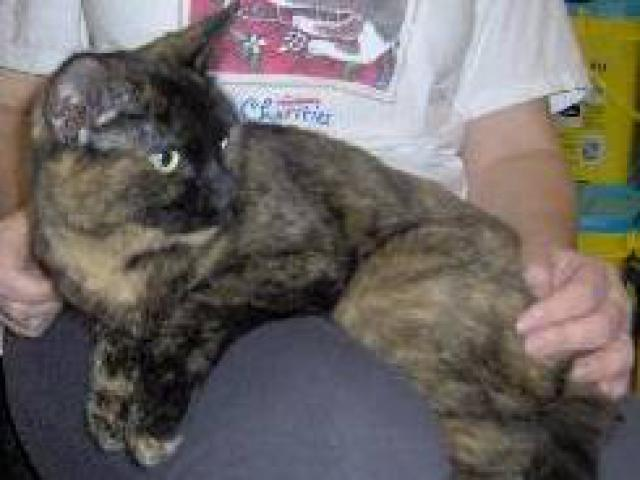cat: (17, 22, 623, 473)
